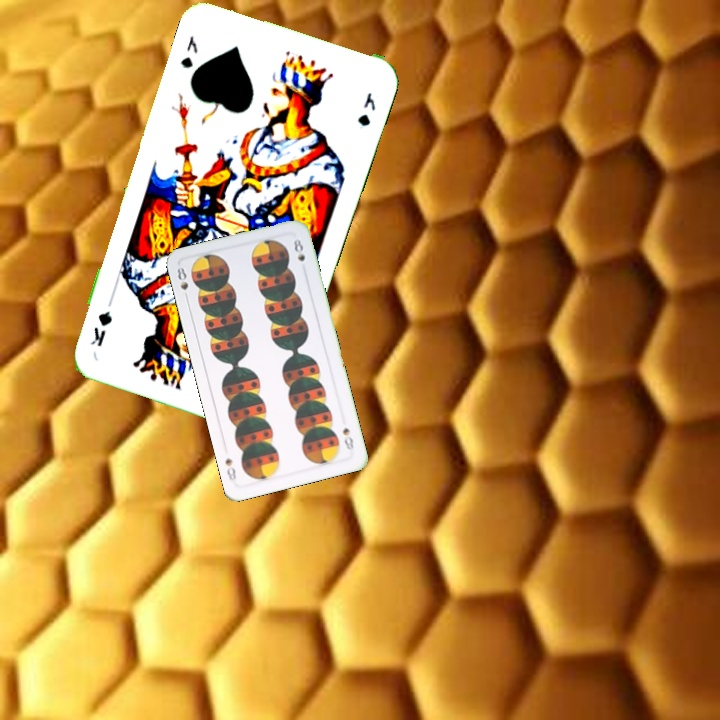GK: (176, 31, 201, 71)
S8: (173, 263, 191, 303), (339, 424, 356, 453)
